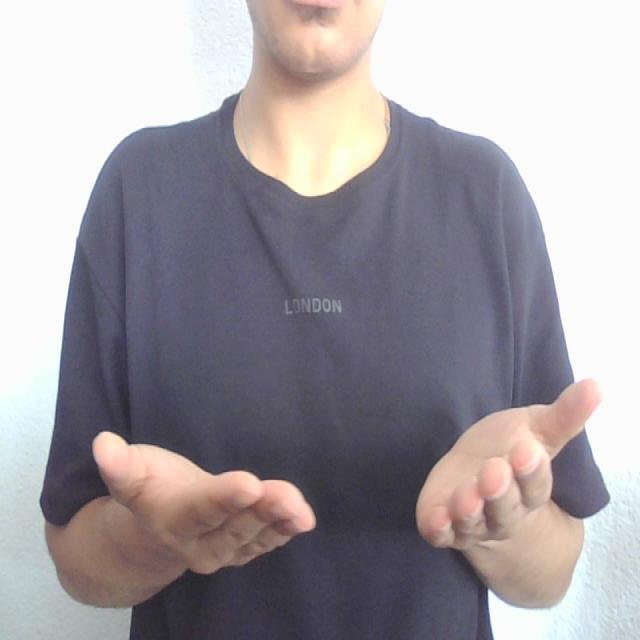Evet: (82, 372, 608, 578)
